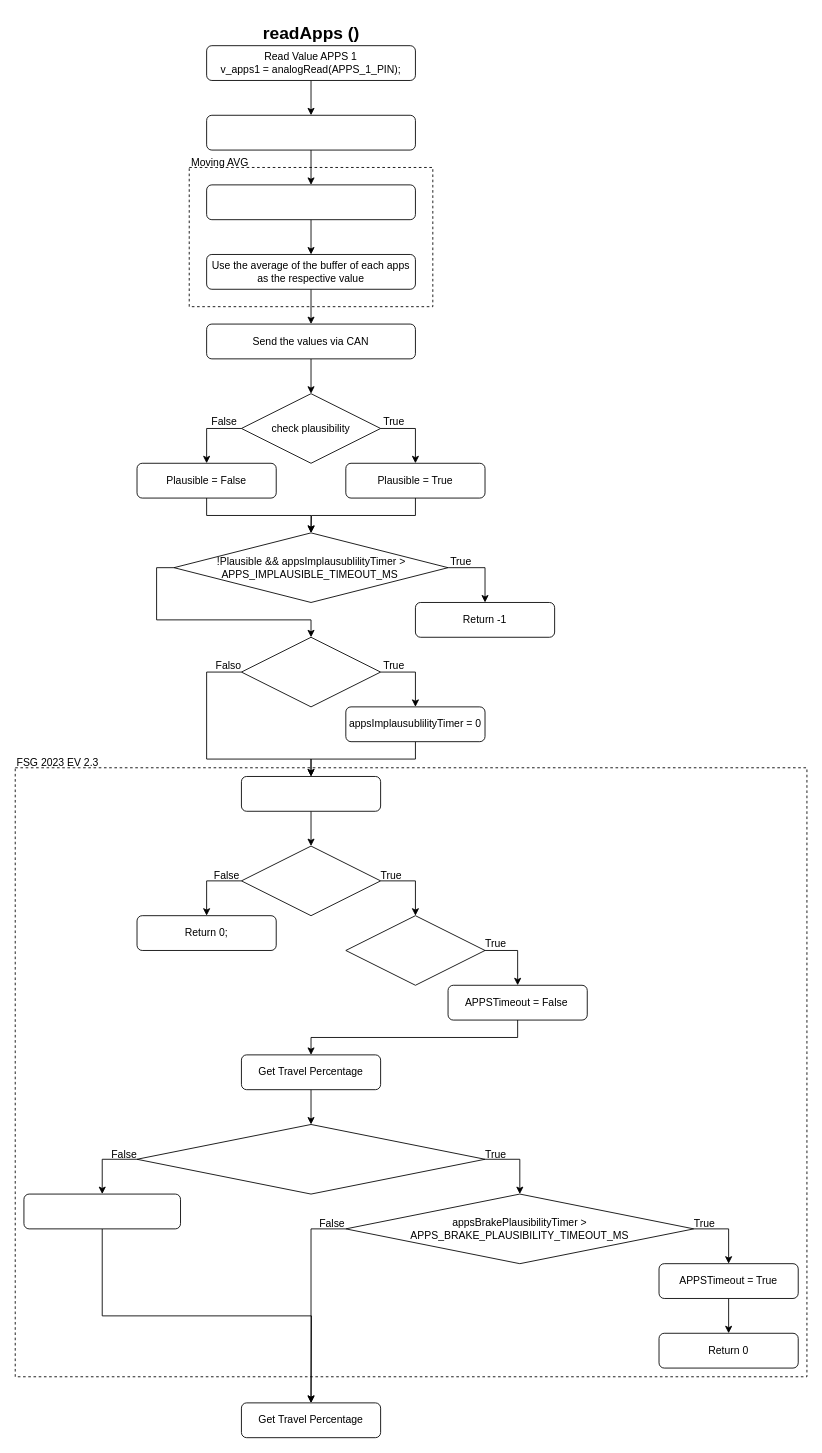
This 822x1453 diagram has some shape labels left out. The box of each missing label's shape, as (x1, y1, x2, y2) in pixels:
Add values to the respective buffer: (206, 184, 415, 220)
appsBrakePlausibilityTimer = 0: (23, 1193, 181, 1229)
APPSTimeout: (241, 845, 381, 916)
bamocarValue == 0: (345, 915, 485, 985)
brakeValue >= BRAKE_BLOCK_THRESHOLD && pedalTravelPercent >= 25.0: (136, 1124, 485, 1194)
Convert to Bamocar Value: (241, 776, 381, 811)
plausibility: (241, 636, 381, 707)
Read Value APPS 2 v_apps2 = analogRead(APPS_2_PIN);: (206, 114, 415, 150)
